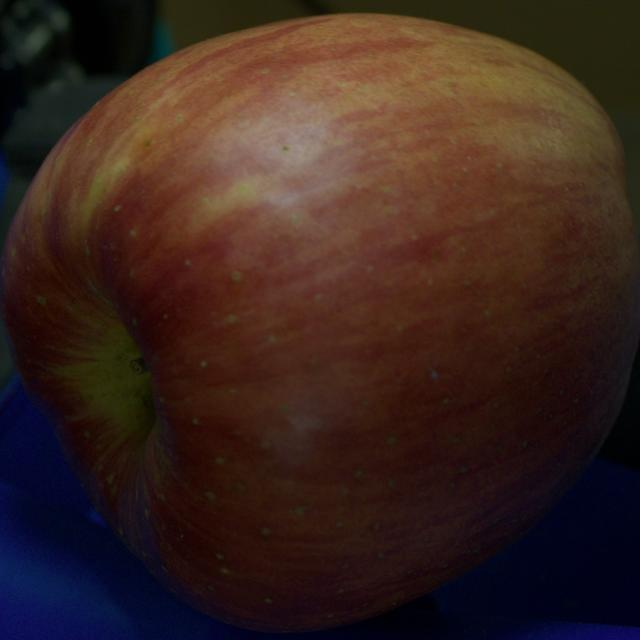apple: (0, 14, 639, 631)
